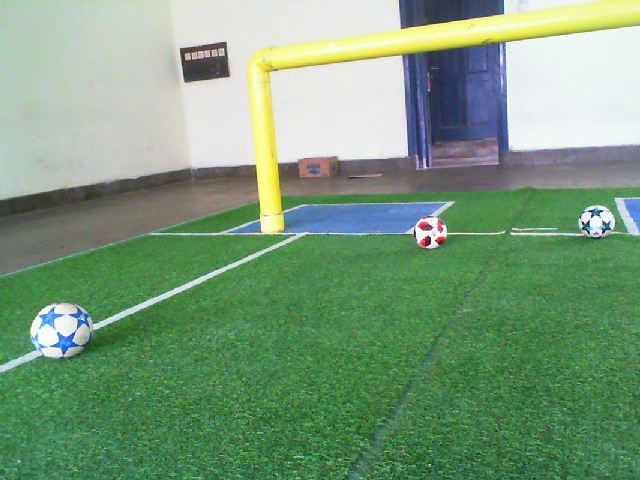ball: (28, 300, 94, 360), (576, 203, 617, 241), (412, 215, 450, 251)
